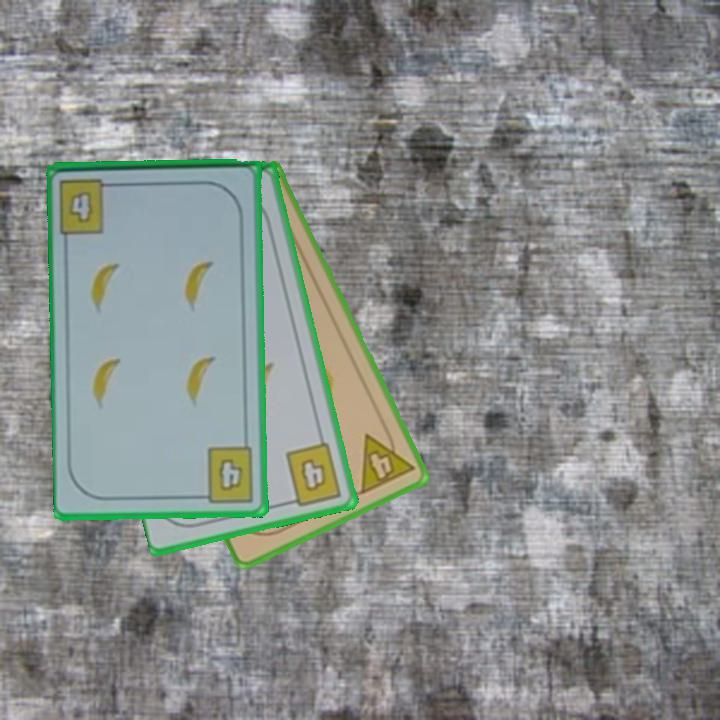4b: (282, 439, 345, 509), (56, 174, 121, 236), (195, 443, 257, 505)
4p: (356, 422, 417, 498)
